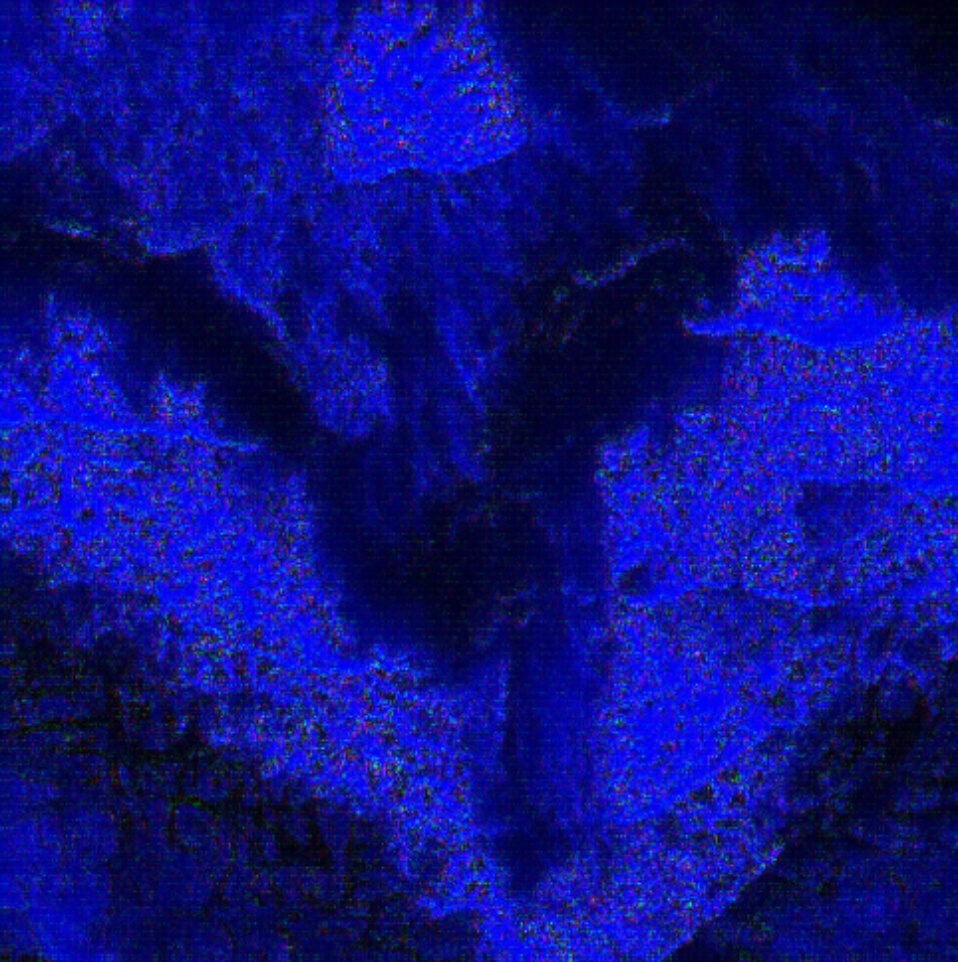rip_current: (314, 261, 674, 912)
